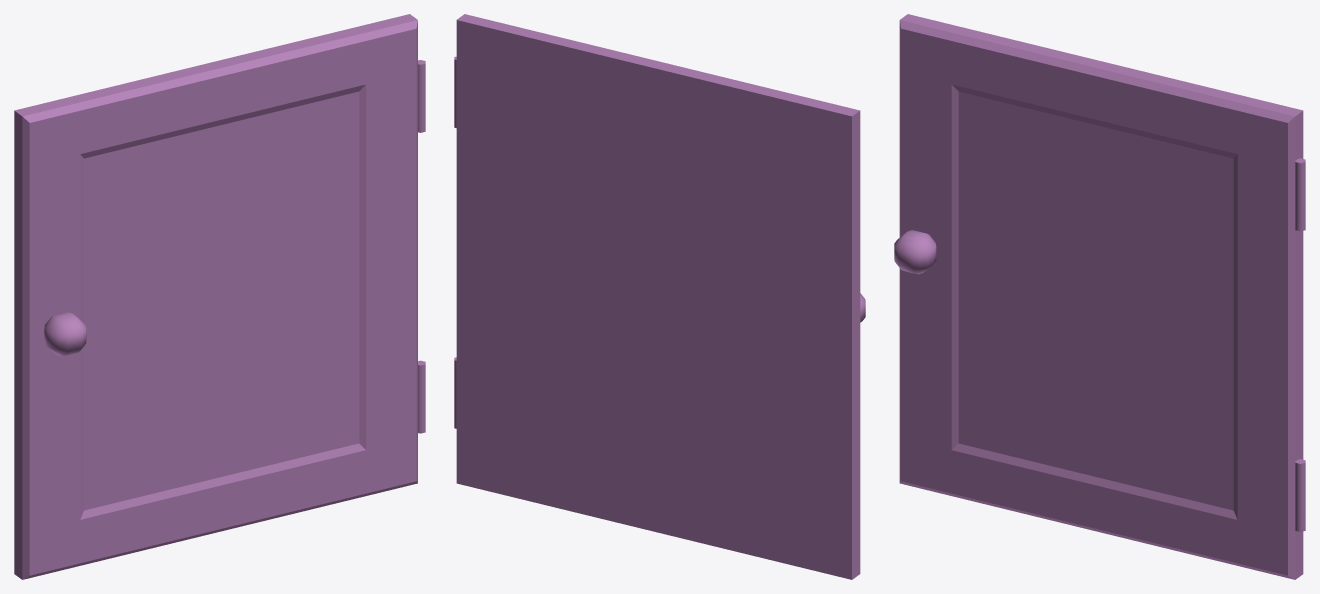
The model's file is PorteMeubleCuisine02.fbx.
3 views of the same model, side by side, from view 1: azimuth 30°, elevation 25°; view 2: azimuth 150°, elevation 25°; view 3: azimuth 330°, elevation 25° (orthographic).
Visible parts, largest first — view 1: PorteMeubleCuisine02; view 2: PorteMeubleCuisine02; view 3: PorteMeubleCuisine02.
Part boxes in pixels (x1,y1,x2,y2): PorteMeubleCuisine02: (14,14,425,579); PorteMeubleCuisine02: (454,14,865,579); PorteMeubleCuisine02: (894,14,1305,579).
Bounding box in the file's own units: 52.43 × 57.39 × 7.04.
